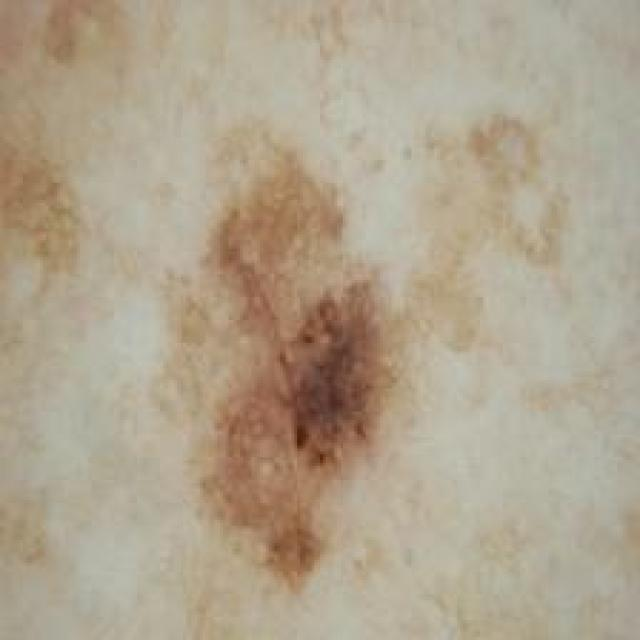Cancer: (163, 120, 400, 594)
